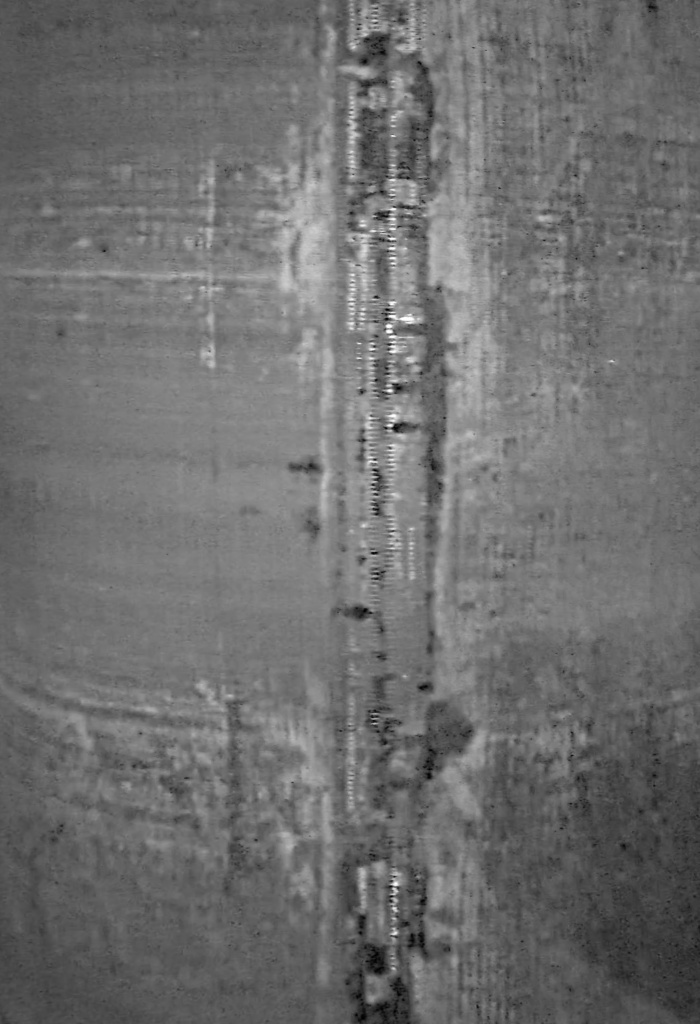splice: (332, 4, 446, 1024)
